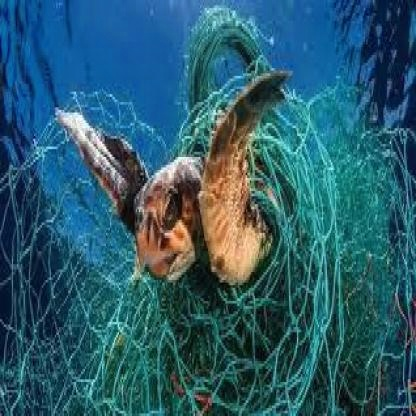net: (11, 83, 405, 416)
